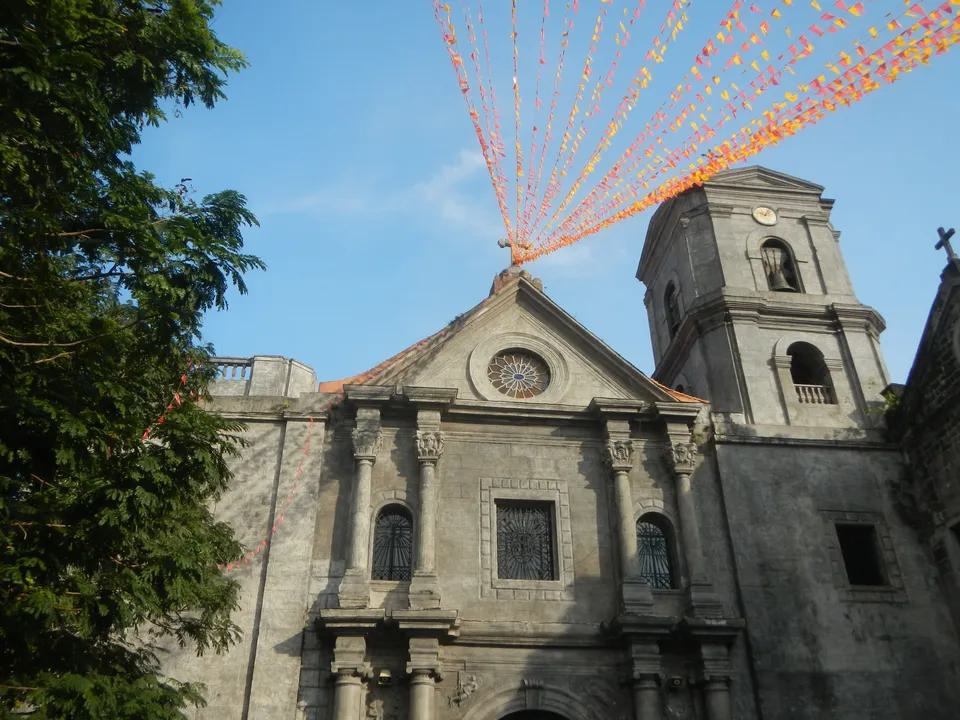san_agustin_church_intramuros_manila: (288, 117, 942, 720)
